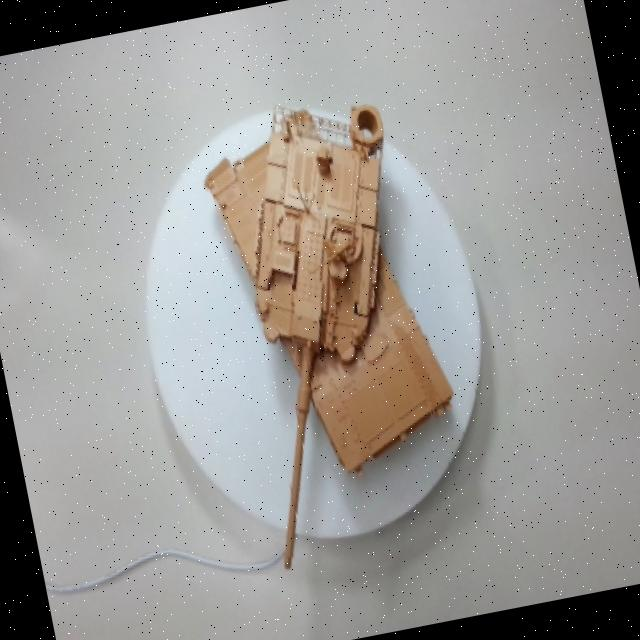korea tank: (131, 46, 524, 595)
